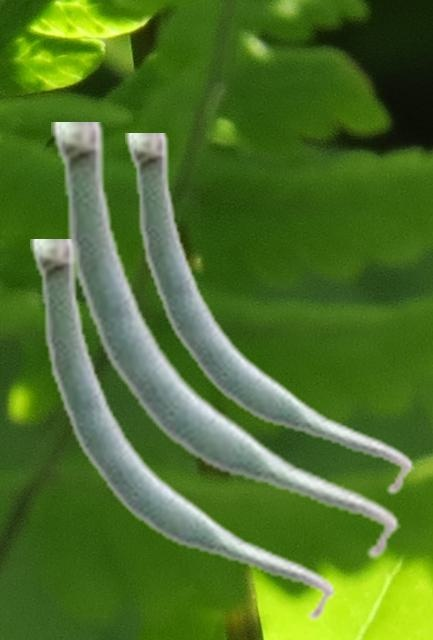french_bean: (51, 122, 399, 561), (30, 239, 335, 623), (125, 133, 413, 496)
